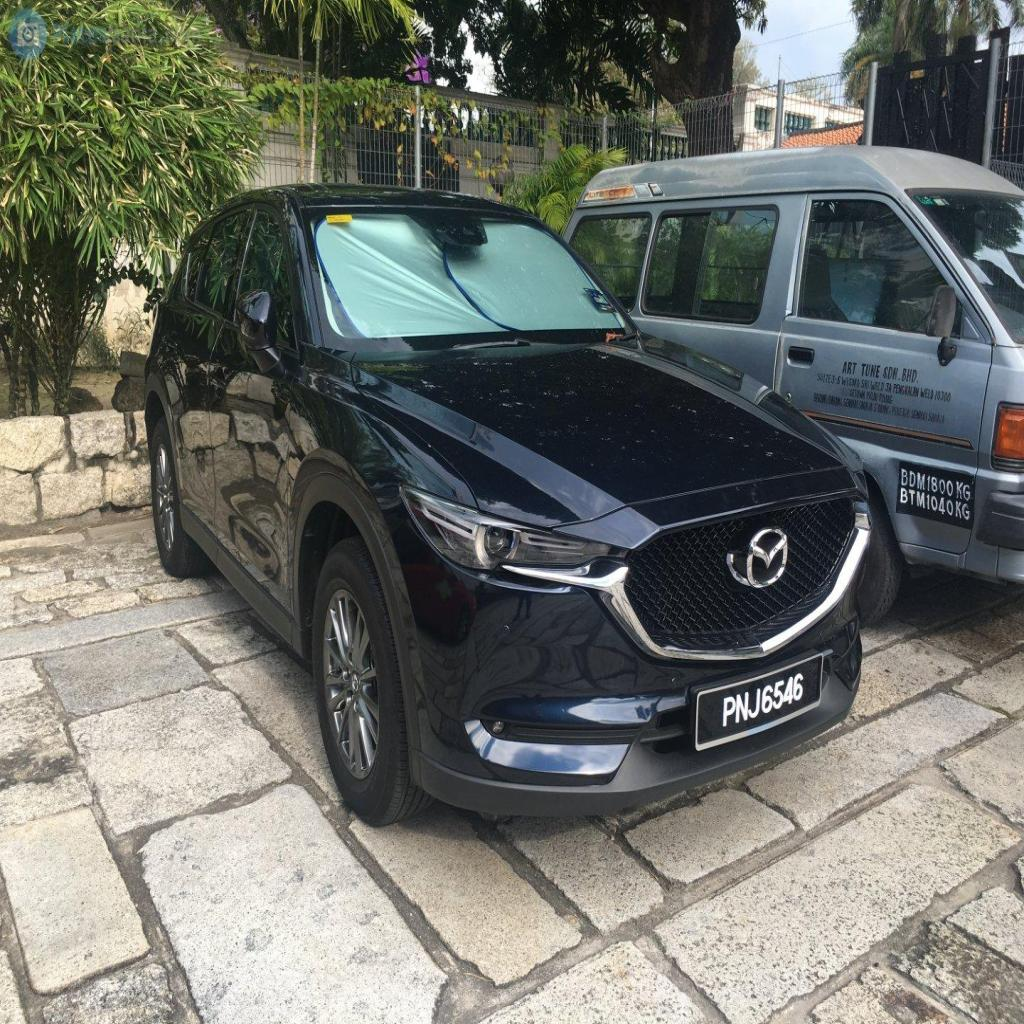car: (145, 185, 868, 822)
car plate: (695, 654, 822, 748)
